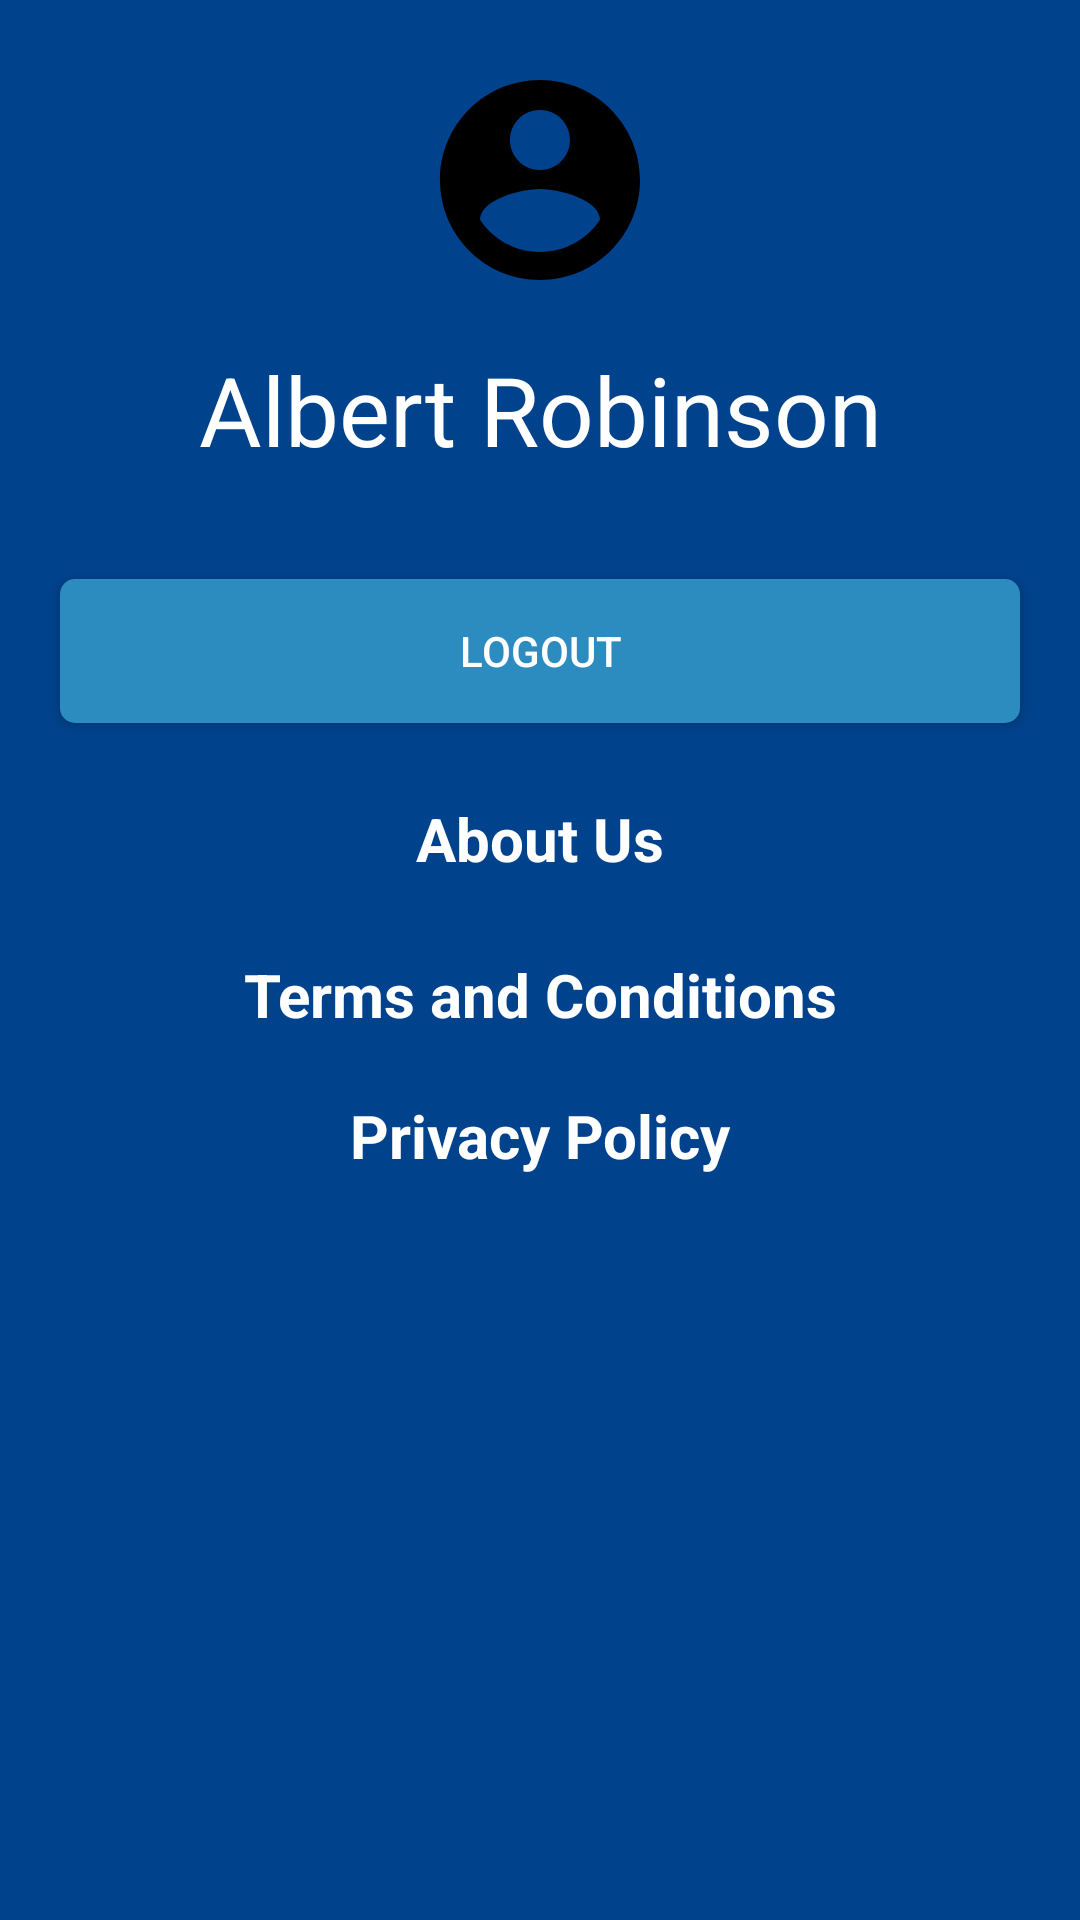

Icon bounding boxes for this 1080 x 1920 phone screenshot, format bbox=(x1, y1, x2, y2):
account: bbox=(440, 80, 640, 280)
